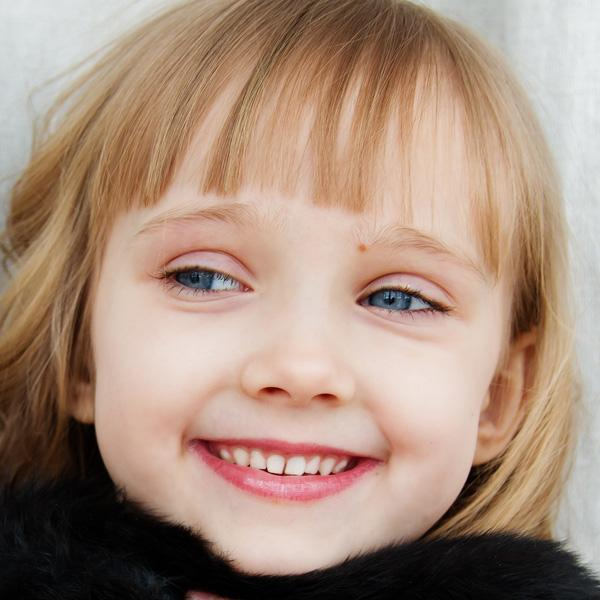Eyes: (342, 259, 468, 337), (154, 236, 259, 310)
